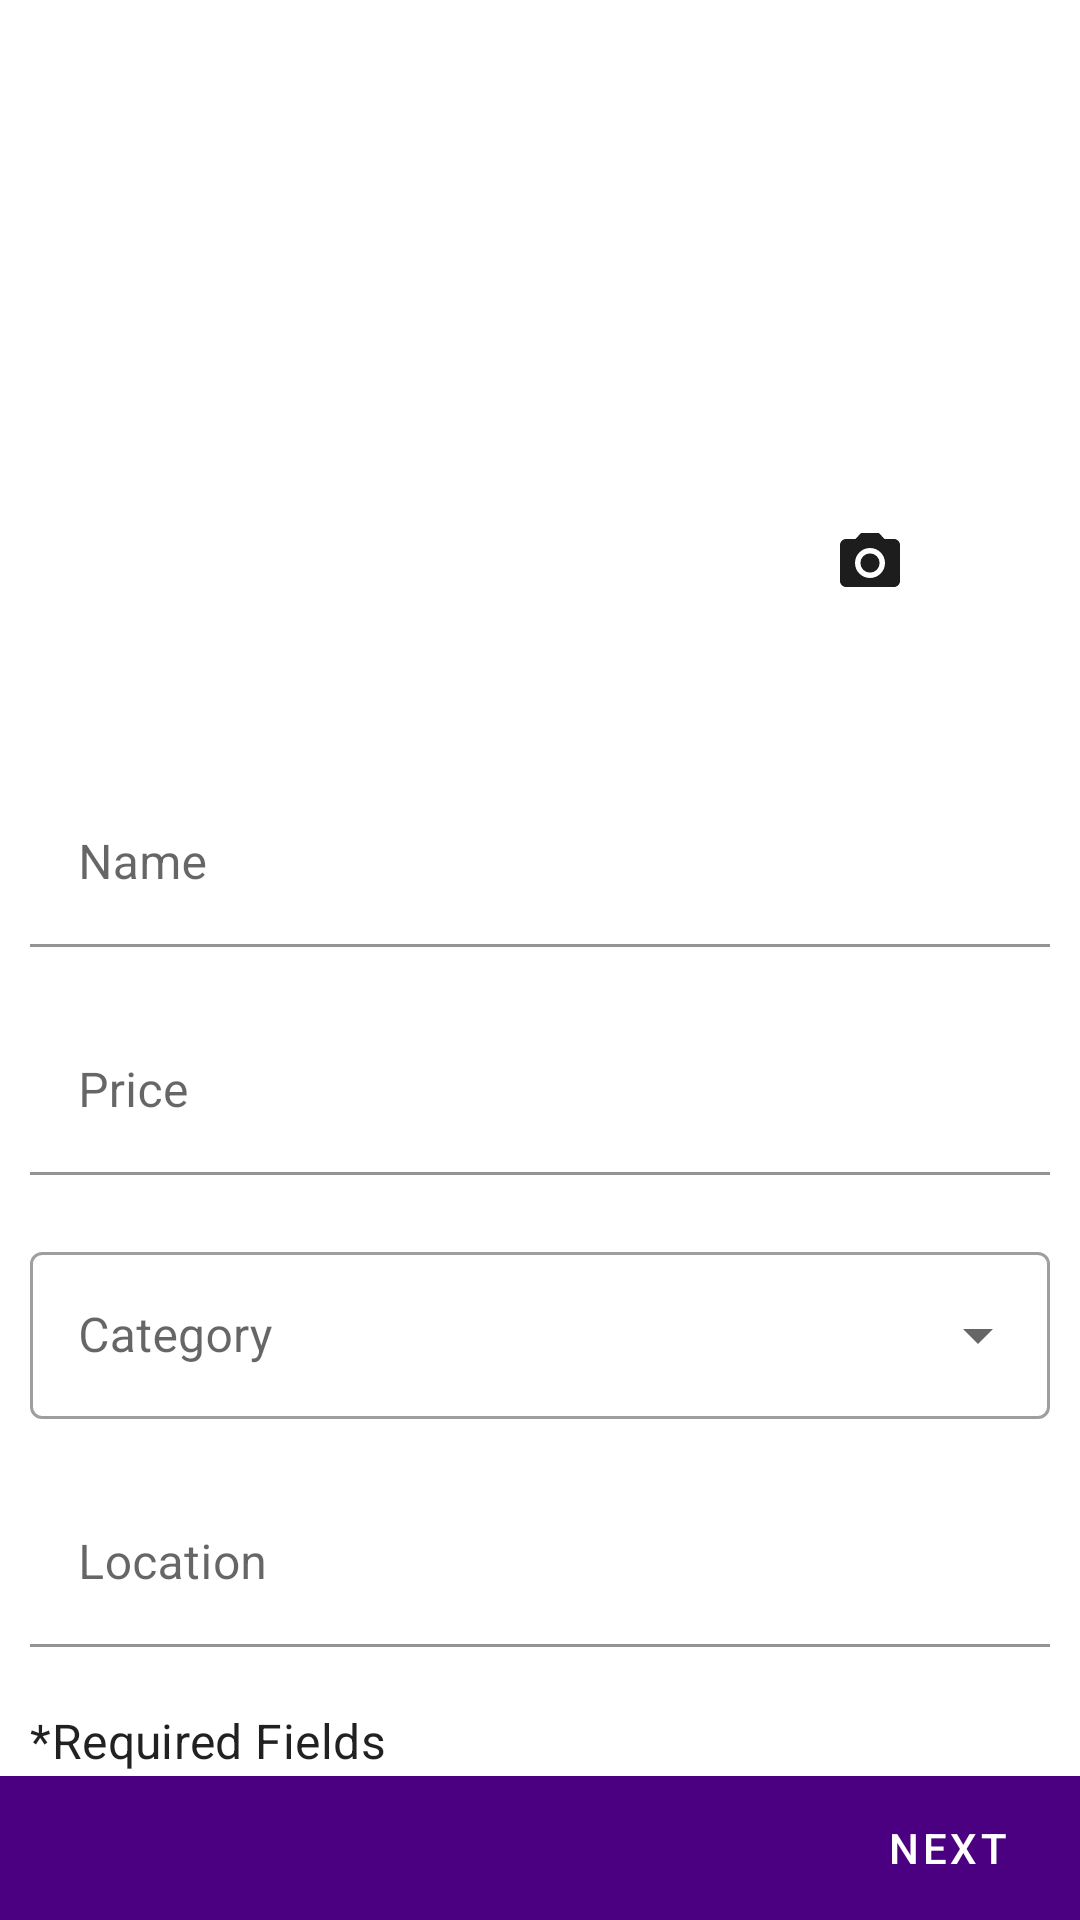

Icon click points for this 1080 × 1920 phone screenshot, format [x,y]:
camera: [870,560]
